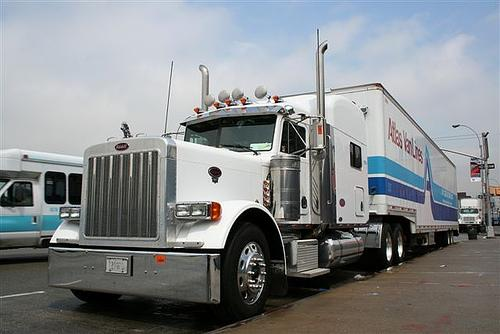truck: (46, 27, 458, 328)
